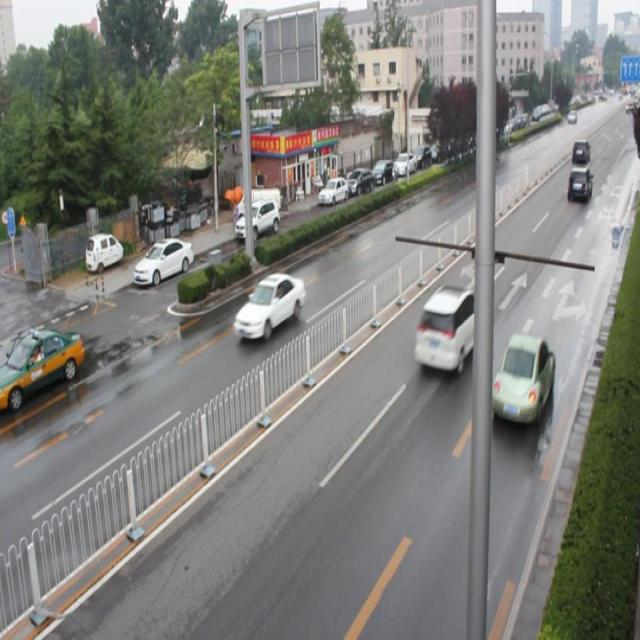car: (415, 282, 481, 378), (492, 332, 553, 424), (232, 272, 302, 342)
truck: (566, 165, 591, 201)
